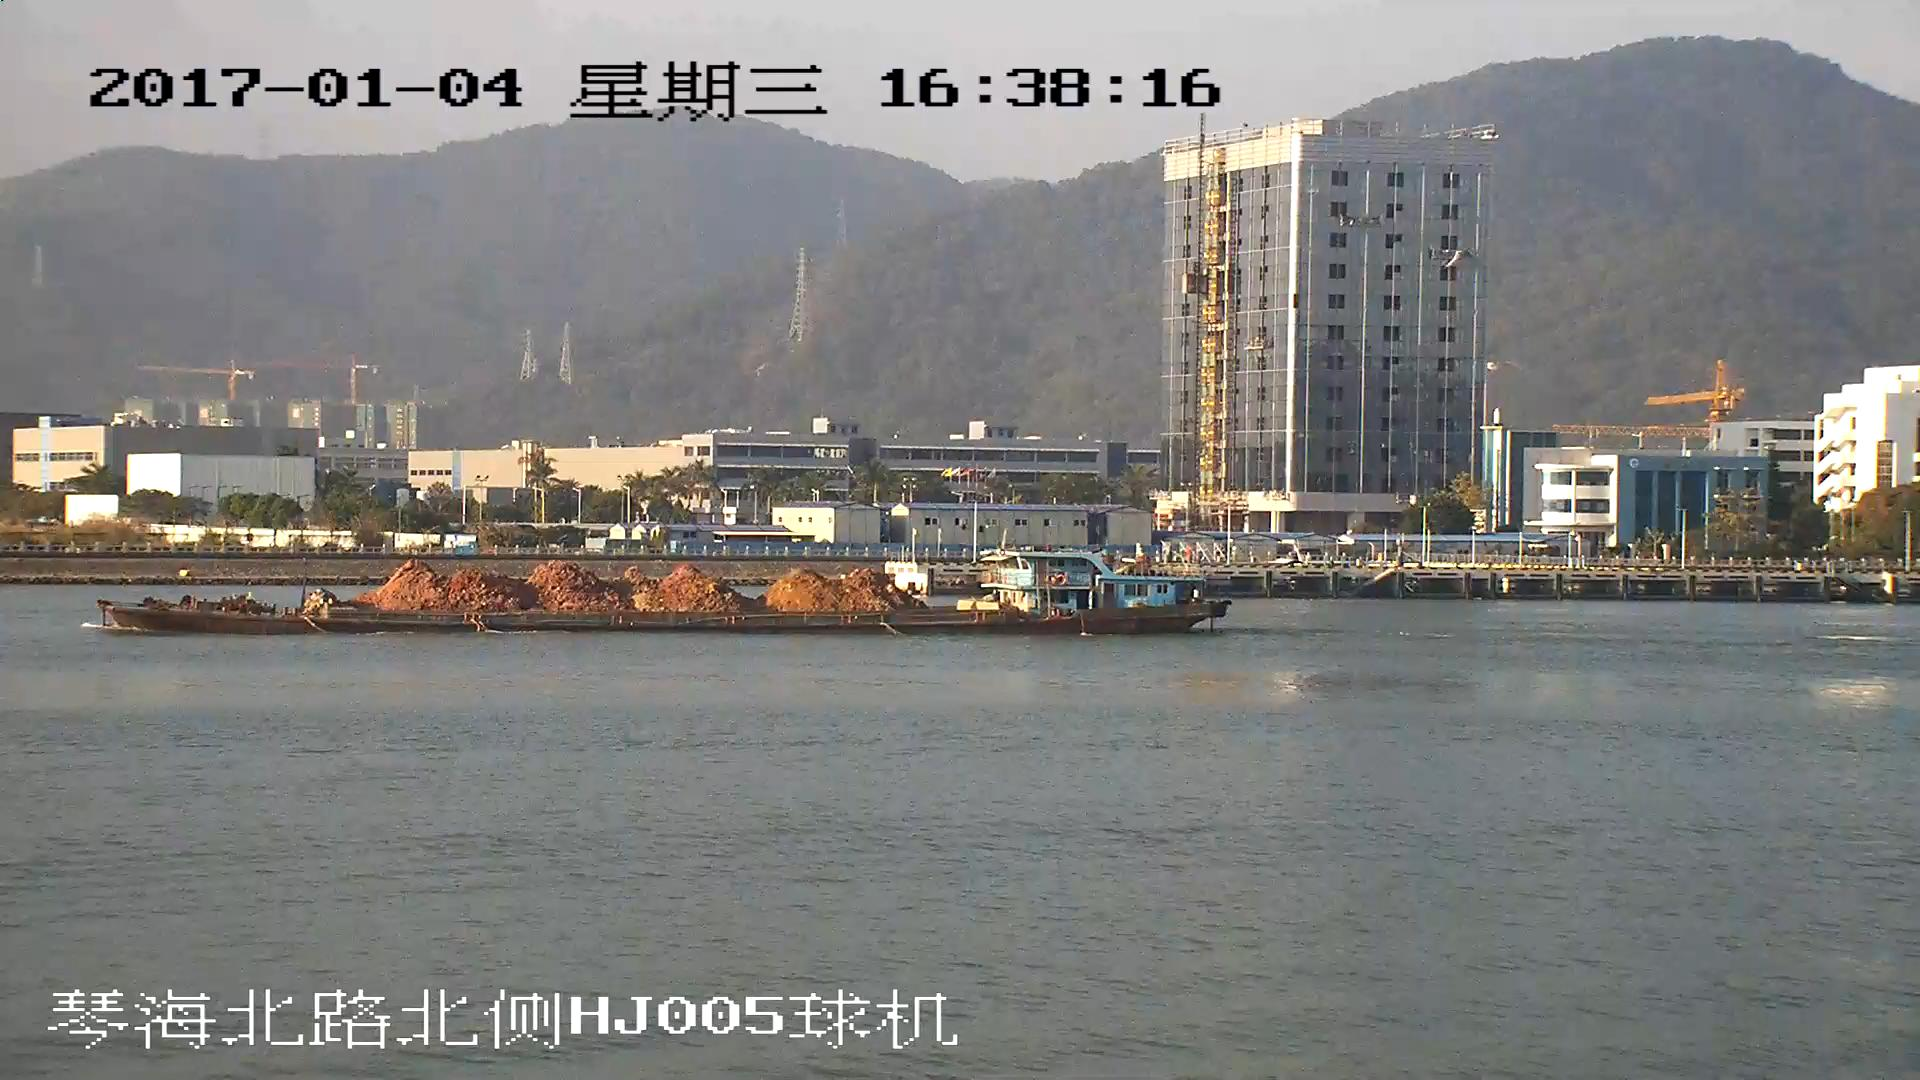ore carrier: (97, 555, 1229, 634)
